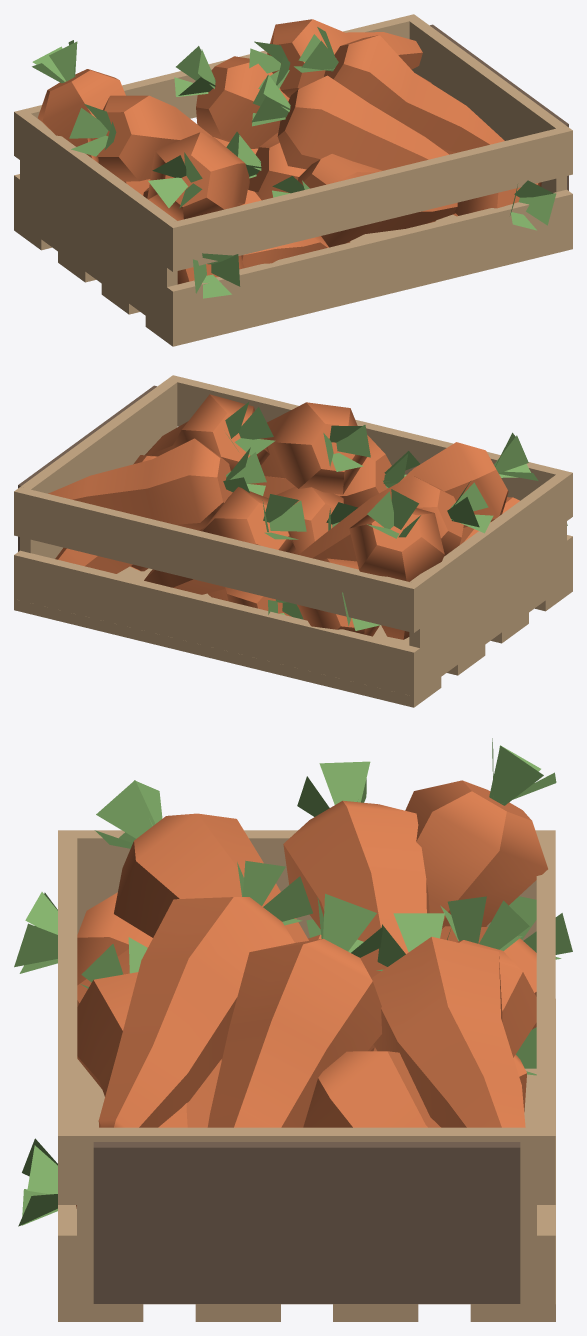
Rendered from carrot crate.fbx.
The picture shows the model from 3 angles, top to bottom: view 1: azimuth 30°, elevation 25°; view 2: azimuth 150°, elevation 25°; view 3: azimuth 270°, elevation 25°; orthographic projection. The views are drawn at different scales.
Parts seen in each view (by area): view 1: crate; view 2: crate; view 3: crate.
Part boxes in pixels (x1=…): crate: x1=14, y1=14, x2=572, y2=346; crate: x1=14, y1=375, x2=572, y2=707; crate: x1=14, y1=738, x2=572, y2=1321.
Bounding box in the file's own units: 15.4 × 6.93 × 11.48.
